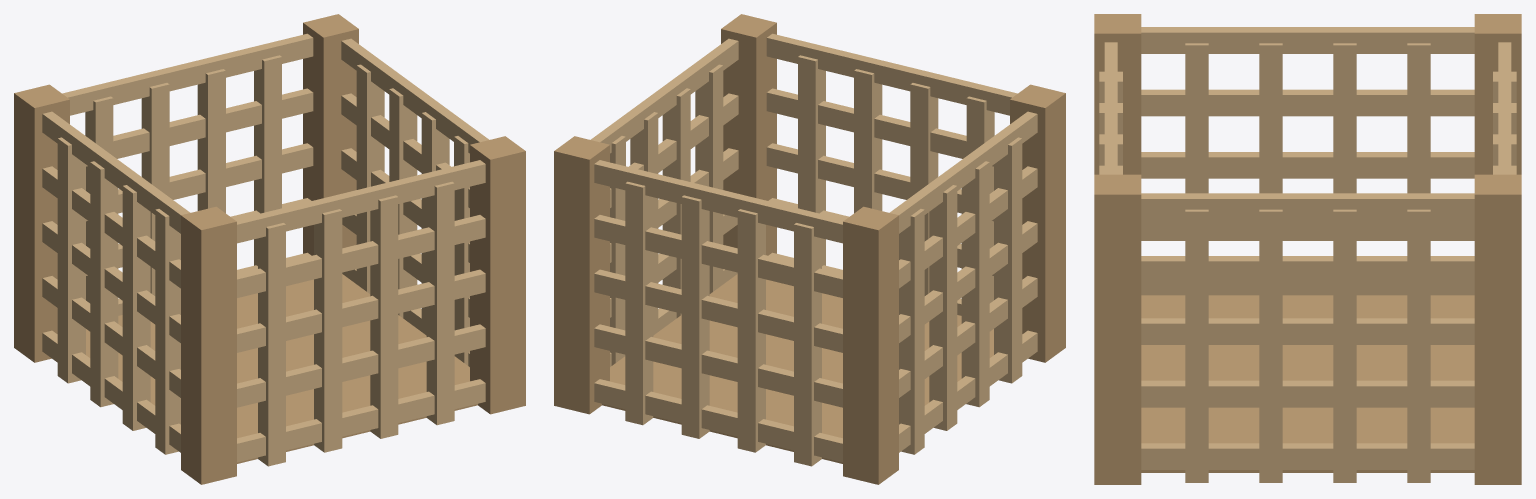
3 renders of one model, left to right at view 1: azimuth 30°, elevation 25°; view 2: azimuth 150°, elevation 25°; view 3: azimuth 270°, elevation 25°, orthographic. The views are drawn at different scales.
Parts seen in each view (by area): view 1: box; view 2: box; view 3: box.
Boxes of the visible parts, x1,y1,x2,y2 form: box: (14,14,525,484); box: (554,14,1065,484); box: (1094,14,1521,484).
Bounding box in the file's own units: 1 × 0.75 × 1.
